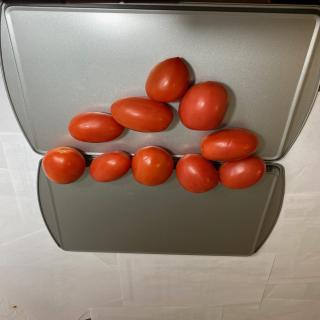Chilli: (41, 56, 268, 193)
Tomato: (178, 80, 230, 130), (110, 96, 173, 133), (145, 56, 190, 102), (200, 128, 259, 162), (68, 112, 125, 143), (175, 154, 219, 194), (131, 146, 174, 186), (42, 146, 86, 184), (218, 156, 266, 189), (89, 150, 131, 182)
